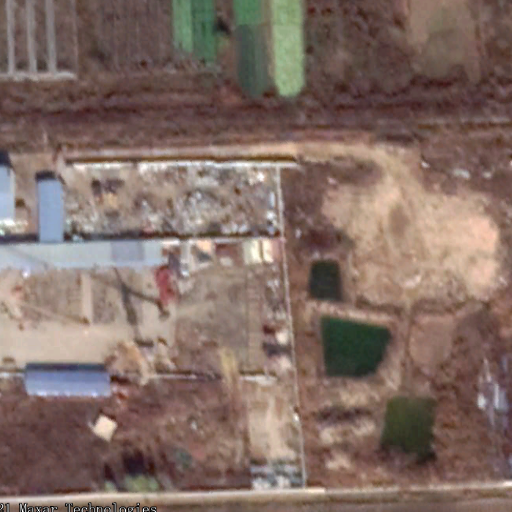msw: (61, 162, 278, 236)
